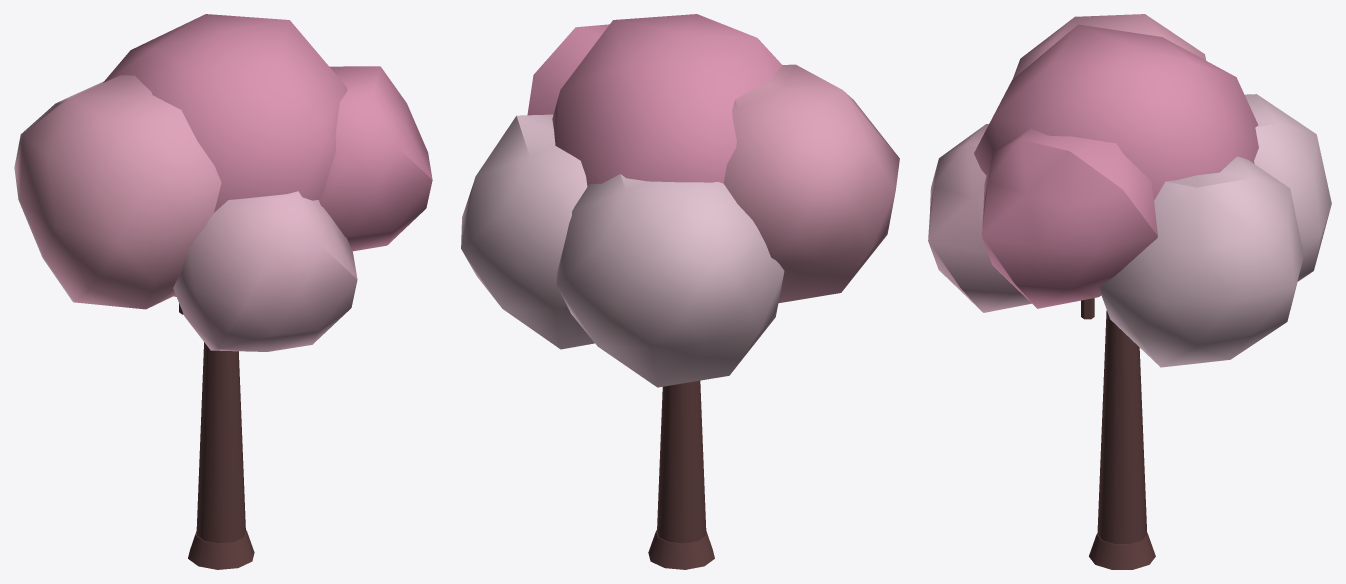
Rendered from sakura_2.glb.
3 renders of one model, left to right at view 1: azimuth 30°, elevation 25°; view 2: azimuth 150°, elevation 25°; view 3: azimuth 270°, elevation 25°, orthographic.
Parts seen in each view (by area): view 1: sakura; view 2: sakura; view 3: sakura.
Part boxes in pixels (bbox=[...]): sakura: bbox=[14, 14, 432, 569]; sakura: bbox=[461, 14, 899, 569]; sakura: bbox=[928, 14, 1331, 569].
Size of the model in its own units: 4.08 by 5.74 by 4.09.
